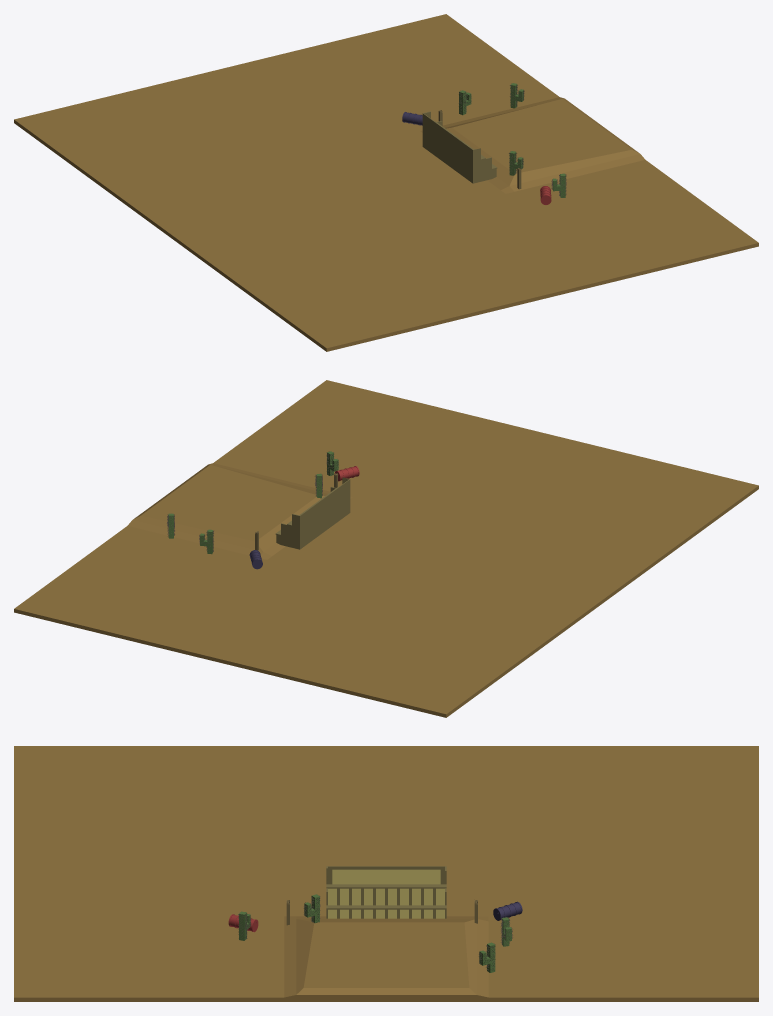
The model's file is WesternArea.glb.
3 renders of one model, top to bottom at view 1: azimuth 30°, elevation 25°; view 2: azimuth 150°, elevation 25°; view 3: azimuth 270°, elevation 25°, orthographic. The views are drawn at different scales.
Parts seen in each view (by area): view 1: Map, Structure; view 2: Map, Structure; view 3: Map, TopRow, Structure, BottomRow.
Part boxes in pixels (x1,y1,x2,y2): Map: [14, 14, 758, 351]; Structure: [422, 113, 473, 183]; Map: [14, 380, 758, 717]; Structure: [299, 479, 350, 549]; Map: [14, 746, 758, 1001]; TopRow: [326, 866, 446, 905]; Structure: [326, 866, 446, 884]; BottomRow: [326, 888, 446, 918].
Size of the model in its own units: 99 by 8.34 by 124.
